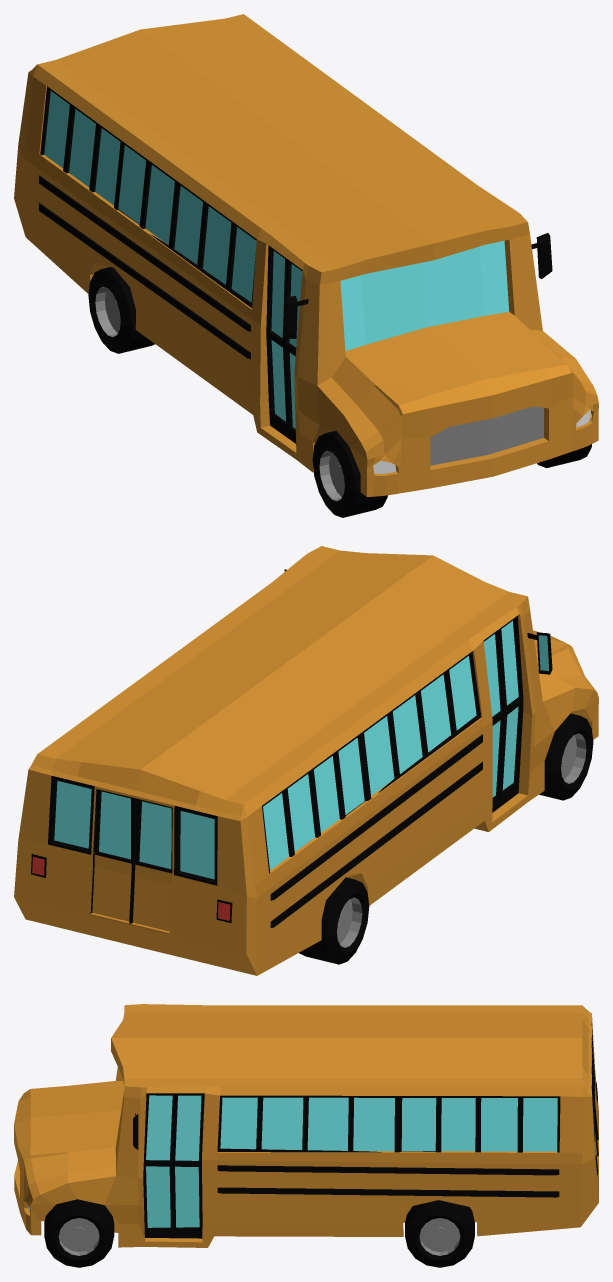
Rendered from schoolbus.gltf.
The picture shows the model from 3 angles, top to bottom: view 1: azimuth 30°, elevation 25°; view 2: azimuth 150°, elevation 25°; view 3: azimuth 270°, elevation 25°; orthographic projection. The views are drawn at different scales.
Parts seen in each view (by area): view 1: bus; view 2: bus; view 3: bus.
Boxes of the visible parts, box(x1,y1,x2,y2) form: bus: box(14, 14, 598, 517); bus: box(14, 546, 598, 975); bus: box(14, 1004, 598, 1267).
Size of the model in its own units: 0.1043 by 0.0847 by 0.2452.
